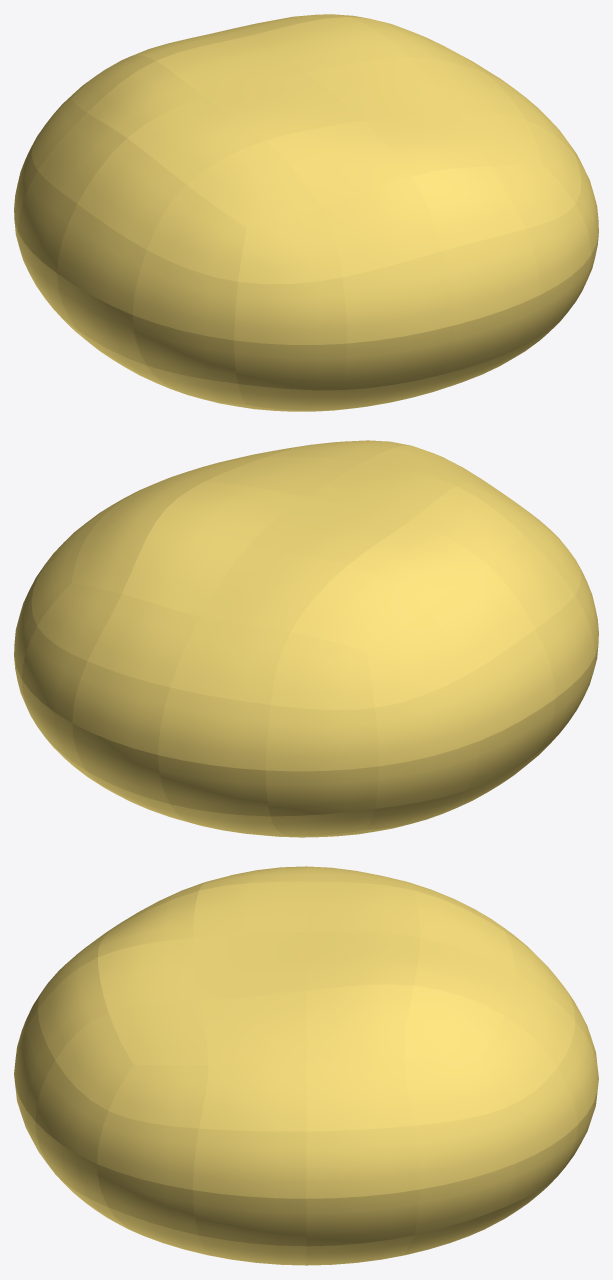
File: uncooked partty.fbx
3 views of the same model, one above another, from view 1: azimuth 30°, elevation 25°; view 2: azimuth 150°, elevation 25°; view 3: azimuth 270°, elevation 25° (orthographic).
Visible parts, largest first — view 1: Cube.002; view 2: Cube.002; view 3: Cube.002.
Part boxes in pixels (box(x1,y1,x2,y2)): Cube.002: box(14, 14, 598, 411); Cube.002: box(14, 440, 598, 837); Cube.002: box(14, 866, 598, 1265).
Size of the model in its own units: 51.33 by 28.75 by 52.9.
